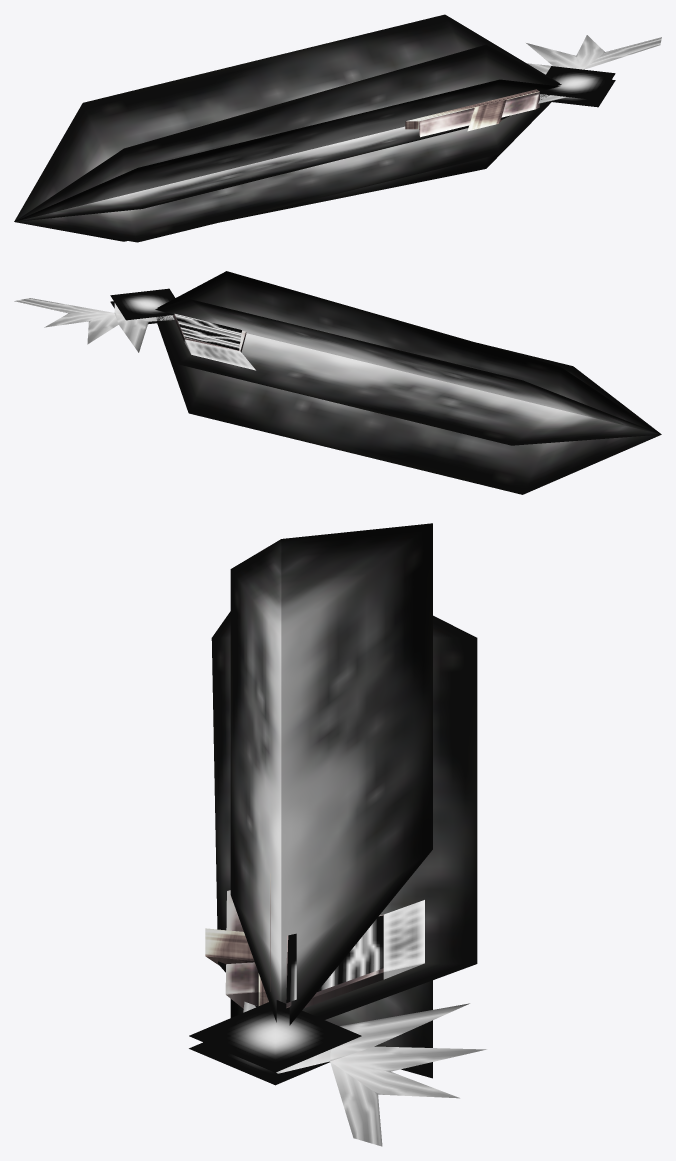
The picture shows the model from 3 angles, top to bottom: view 1: azimuth 30°, elevation 25°; view 2: azimuth 150°, elevation 25°; view 3: azimuth 270°, elevation 25°; orthographic projection. The views are drawn at different scales.
Parts seen in each view (by area): view 1: B_0062_3b_1, B_0062_3b_0; view 2: B_0062_3b_1, B_0062_3b_0; view 3: B_0062_3b_1, B_0062_3b_0.
Part boxes in pixels (box(x1,y1,x2,y2)): B_0062_3b_1: box(14, 14, 615, 242); B_0062_3b_0: box(405, 35, 661, 137); B_0062_3b_1: box(110, 271, 661, 494); B_0062_3b_0: box(14, 298, 255, 370); B_0062_3b_1: box(189, 523, 477, 1085); B_0062_3b_0: box(205, 874, 486, 1146).
Size of the model in its own units: 4.09 by 0.72 by 0.851.
